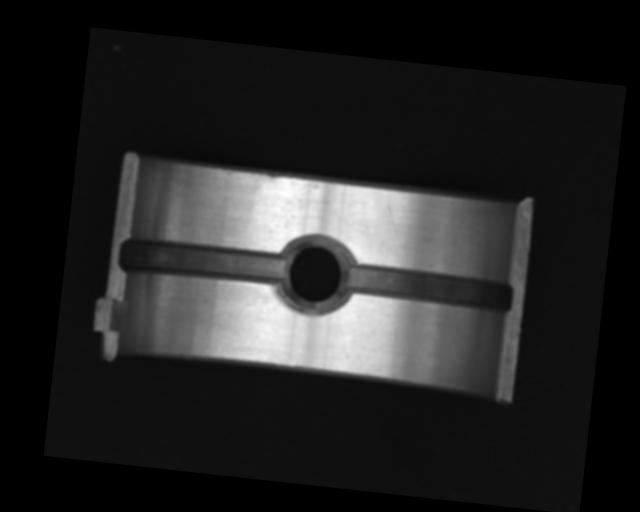gap: (340, 261, 516, 316), (117, 234, 287, 288)
hole: (275, 232, 356, 317)
